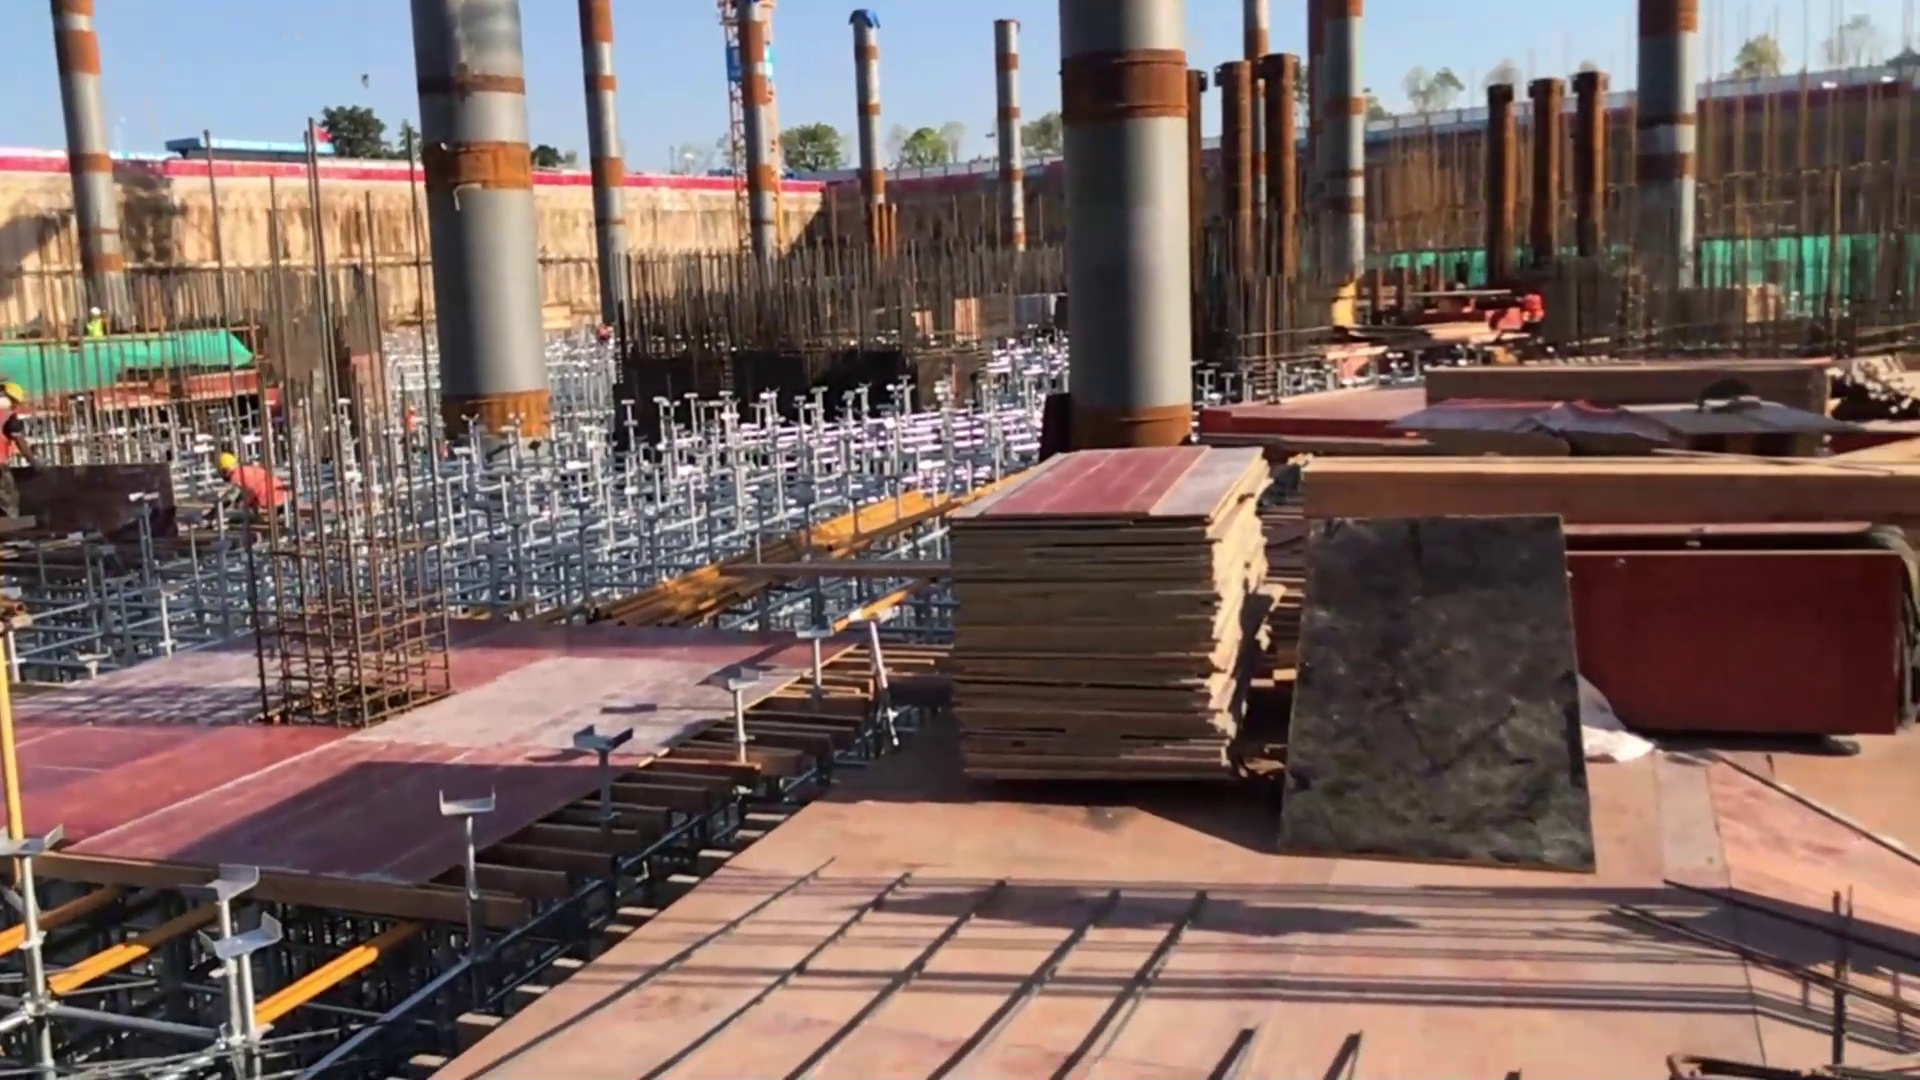board: (951, 441, 1279, 779)
person: (205, 445, 281, 523), (1, 376, 24, 500), (79, 299, 101, 337)
wood: (1305, 450, 1920, 521)
